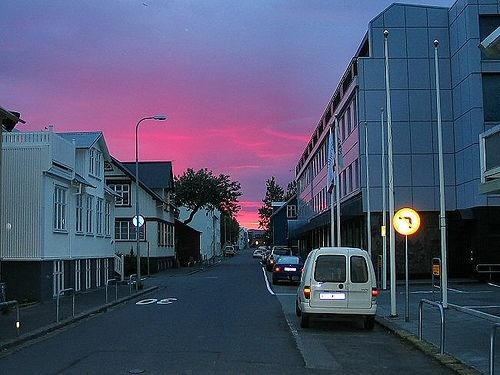car: (297, 248, 380, 330), (272, 257, 306, 285), (268, 247, 293, 272), (224, 246, 236, 257), (254, 251, 265, 260)
